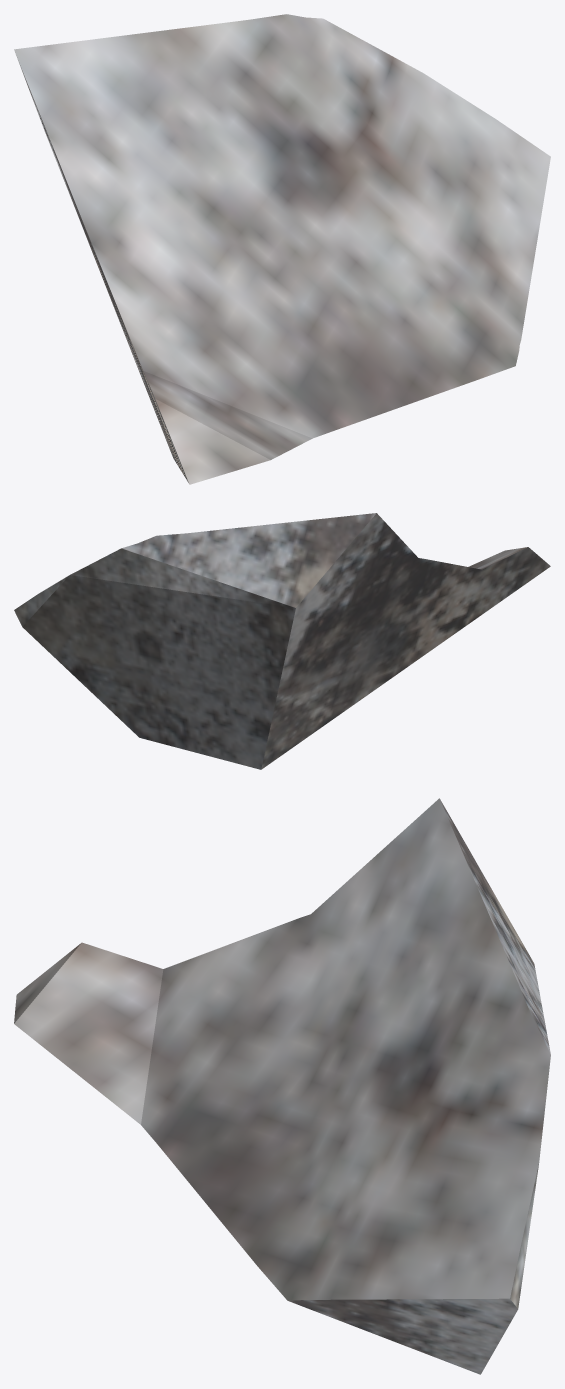
Rendered from Asteroid_Large_001_02_010_03_003.fbx.
The picture shows the model from 3 angles, top to bottom: view 1: azimuth 30°, elevation 25°; view 2: azimuth 150°, elevation 25°; view 3: azimuth 270°, elevation 25°; orthographic projection. The views are drawn at different scales.
Parts seen in each view (by area): view 1: Asteroid_Large_001_02_010_03_003; view 2: Asteroid_Large_001_02_010_03_003; view 3: Asteroid_Large_001_02_010_03_003.
Part boxes in pixels (bbox=[...]): Asteroid_Large_001_02_010_03_003: bbox=[14, 14, 550, 484]; Asteroid_Large_001_02_010_03_003: bbox=[14, 513, 550, 769]; Asteroid_Large_001_02_010_03_003: bbox=[14, 798, 550, 1374].
Size of the model in its own units: 5.77 by 4.03 by 4.7.
